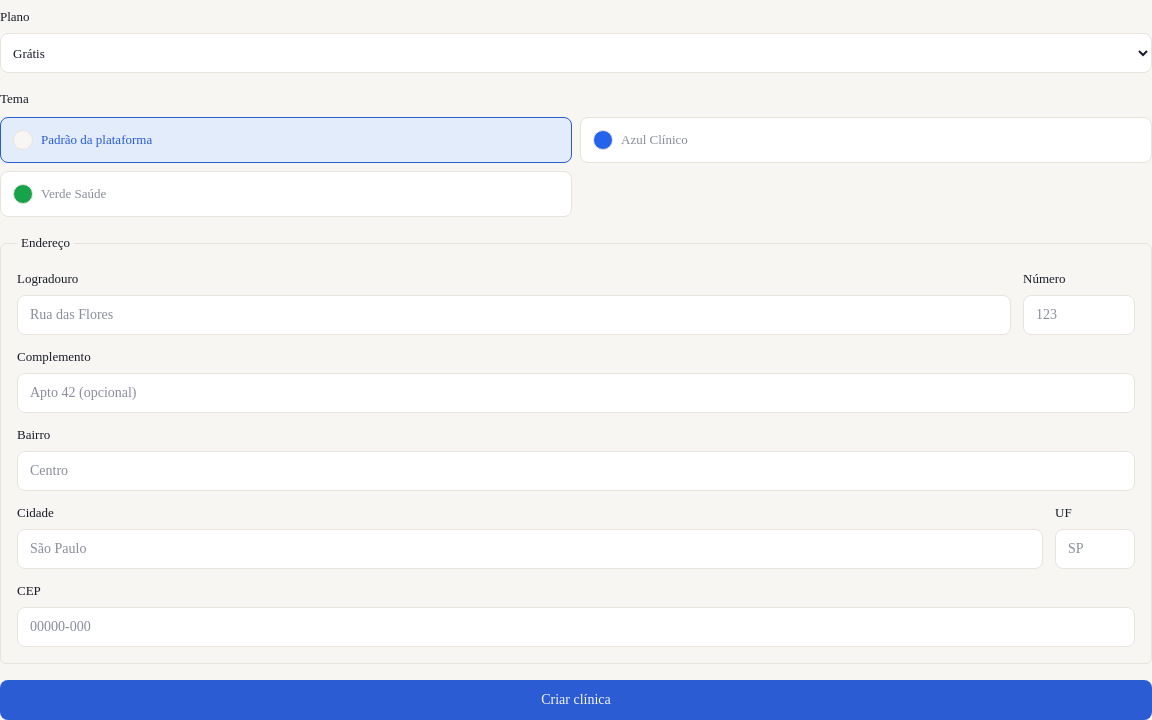
Test case: ClinicForm (integration) — create mode › shows validation error when name is empty
(page scrolled)
Click the button with test id "clinic-form-submit": point(576, 700) [0, 680, 1151, 719]
(page scrolled)
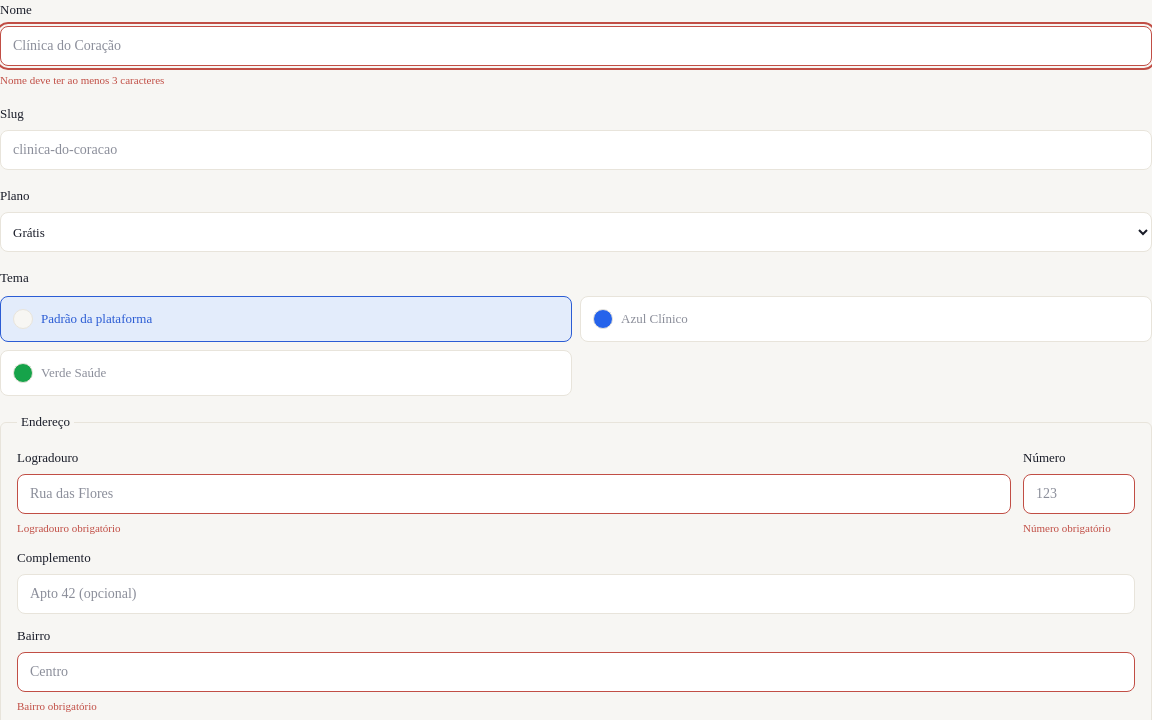
expect the text "Nome deve ter ao menos 3 caracteres" is shown: met, box [0, 74, 164, 86]
